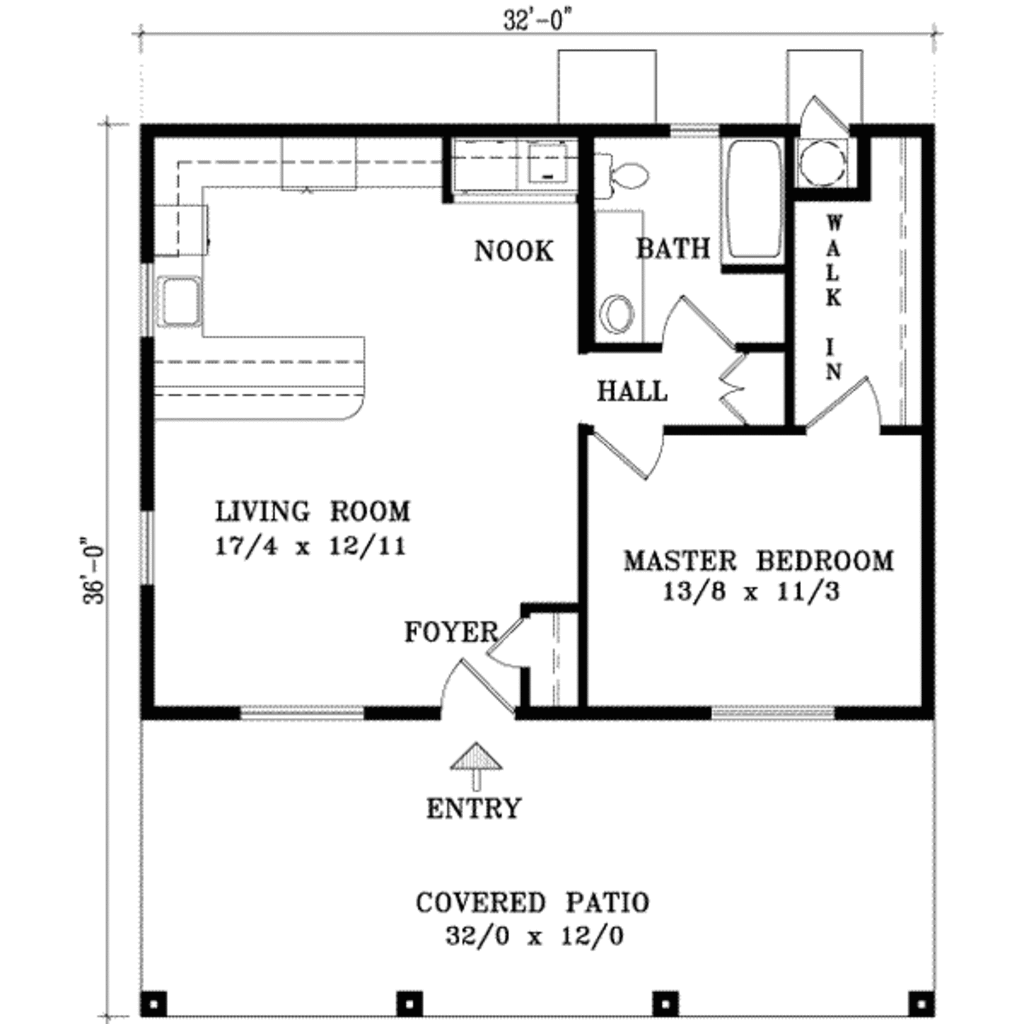door: (714, 347, 791, 433), (808, 375, 894, 436), (661, 289, 742, 353), (442, 653, 516, 721), (589, 421, 669, 482), (798, 85, 853, 142), (484, 610, 541, 663)
large_sink: (594, 146, 653, 202)
small_sink: (602, 242, 641, 346)
tub: (720, 132, 781, 269)
window: (231, 702, 377, 724), (708, 705, 838, 721), (138, 511, 158, 586), (138, 264, 155, 342)
